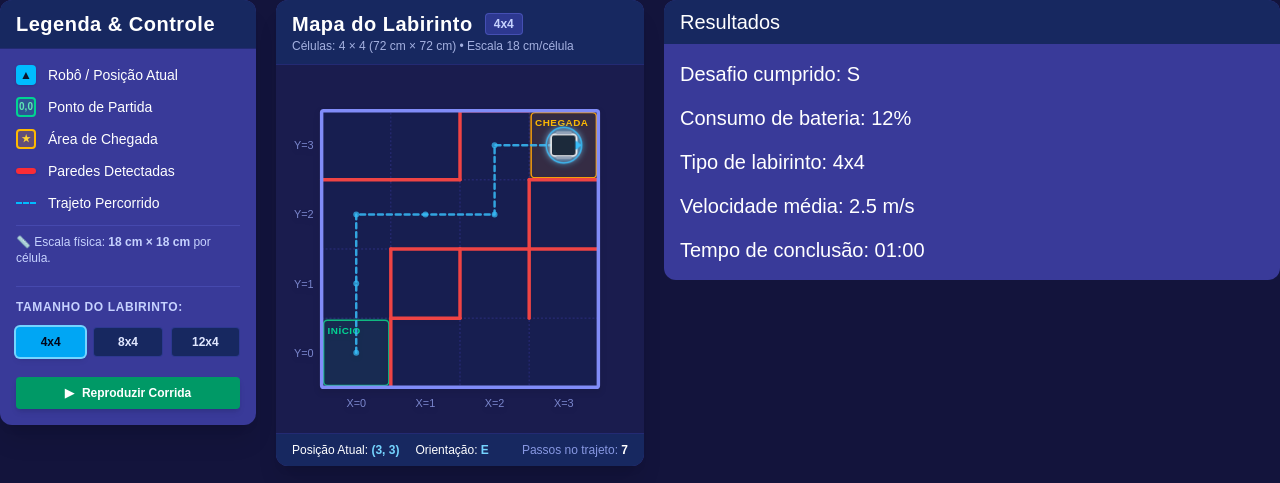
Test: Dashboard: simulação da corrida › trocar de labirinto durante a simulação interrompe a animação
What coordinates should you click on to do the following:
click the button "▶ Reproduzir Corrida"
I would click on:
 (128, 393)
Its box is [16,377,240,409].
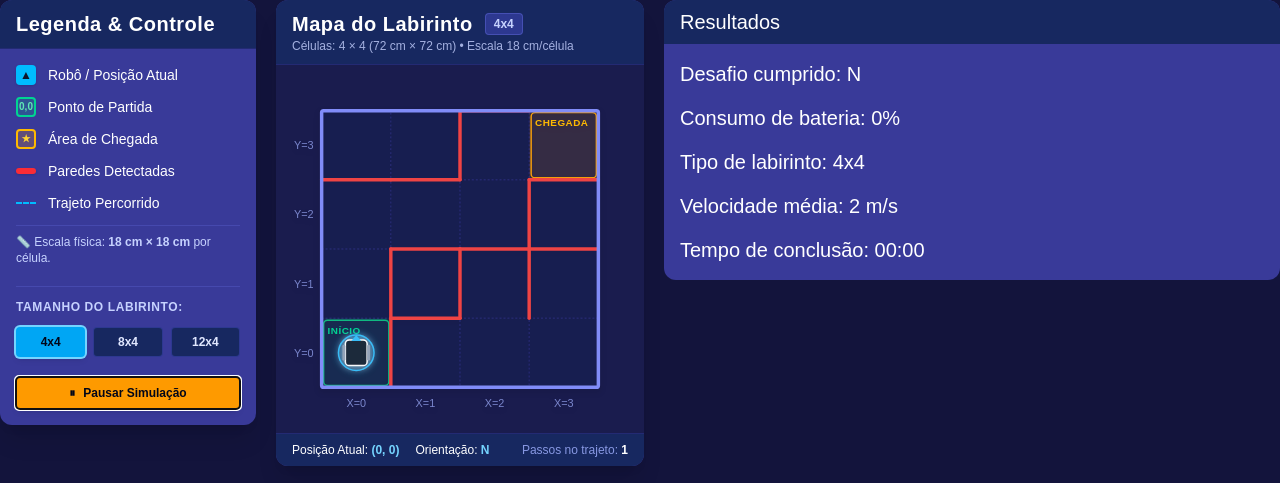
What coordinates should you click on to do the following:
click the button "8x4"
I would click on:
 (128, 342)
Its box is [93,327,163,357].
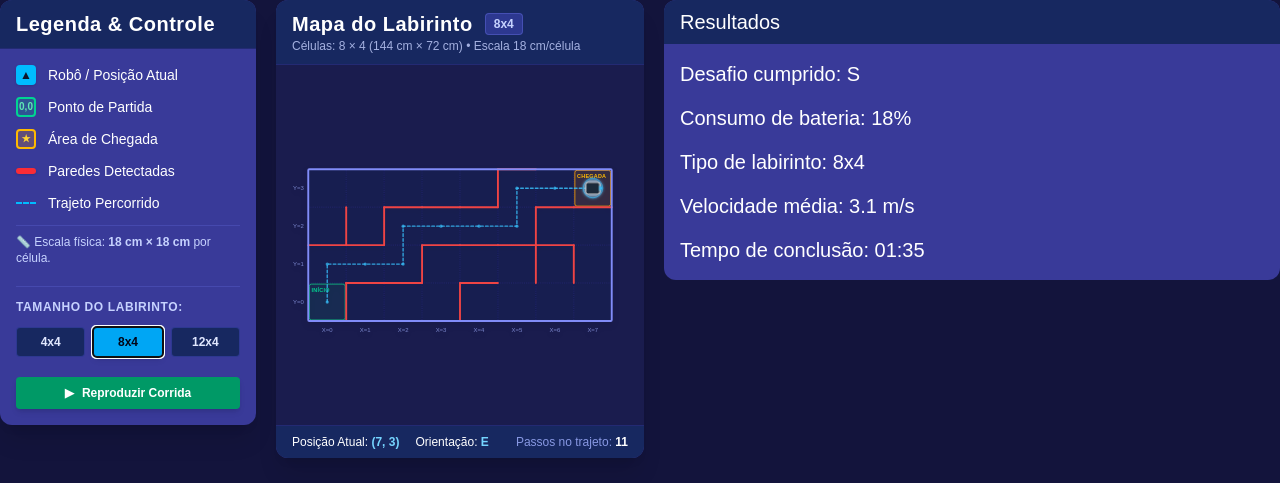
Now the button "▶ Reproduzir Corrida" is shown, box [16,377,240,409]
Now the text "Tipo de labirinto: 8x4" is shown, box [680,151,865,173]
